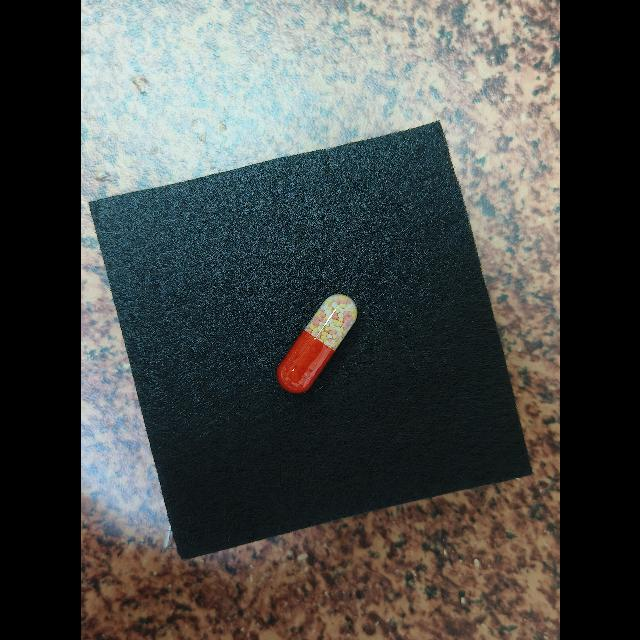Intact Capsule: (276, 294, 357, 393)
